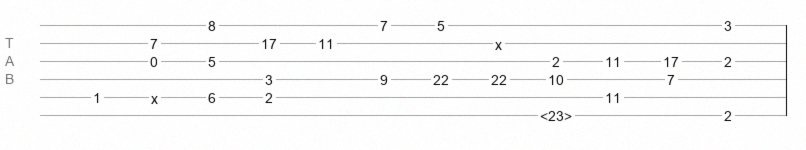0: (150, 54, 158, 64)
1: (93, 90, 101, 100)
10: (548, 72, 564, 82)
11: (318, 36, 334, 46), (605, 90, 621, 100), (605, 54, 621, 64)
17: (261, 36, 277, 46), (663, 54, 679, 64)
2: (265, 90, 273, 100), (552, 54, 560, 64), (724, 108, 732, 118), (724, 54, 732, 64)
22: (433, 72, 449, 82), (491, 72, 507, 82)
3: (265, 72, 273, 82), (724, 18, 732, 28)
5: (208, 54, 216, 64), (437, 18, 445, 28)
6: (208, 90, 216, 100)
7: (150, 36, 158, 46), (380, 18, 388, 28), (667, 72, 675, 82)
8: (208, 18, 216, 28)
9: (380, 72, 388, 82)
harmonic: (540, 108, 572, 118)
x: (151, 91, 158, 99), (495, 37, 502, 45)
